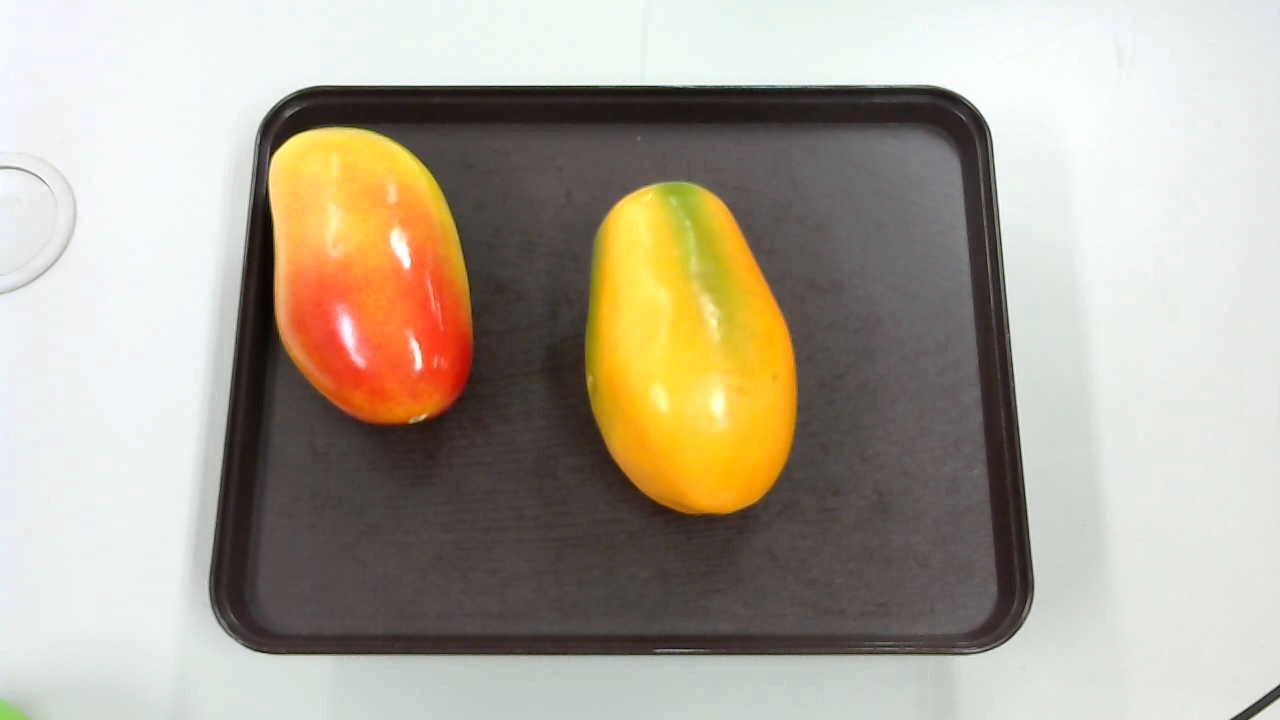papya: (582, 176, 803, 514)
red mango: (268, 121, 477, 428)
